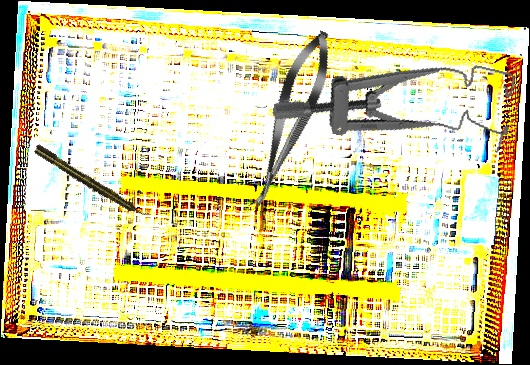Handpiece: (31, 142, 151, 223)
Micro Scissor: (237, 24, 343, 217)
Speculum: (270, 22, 522, 173)
